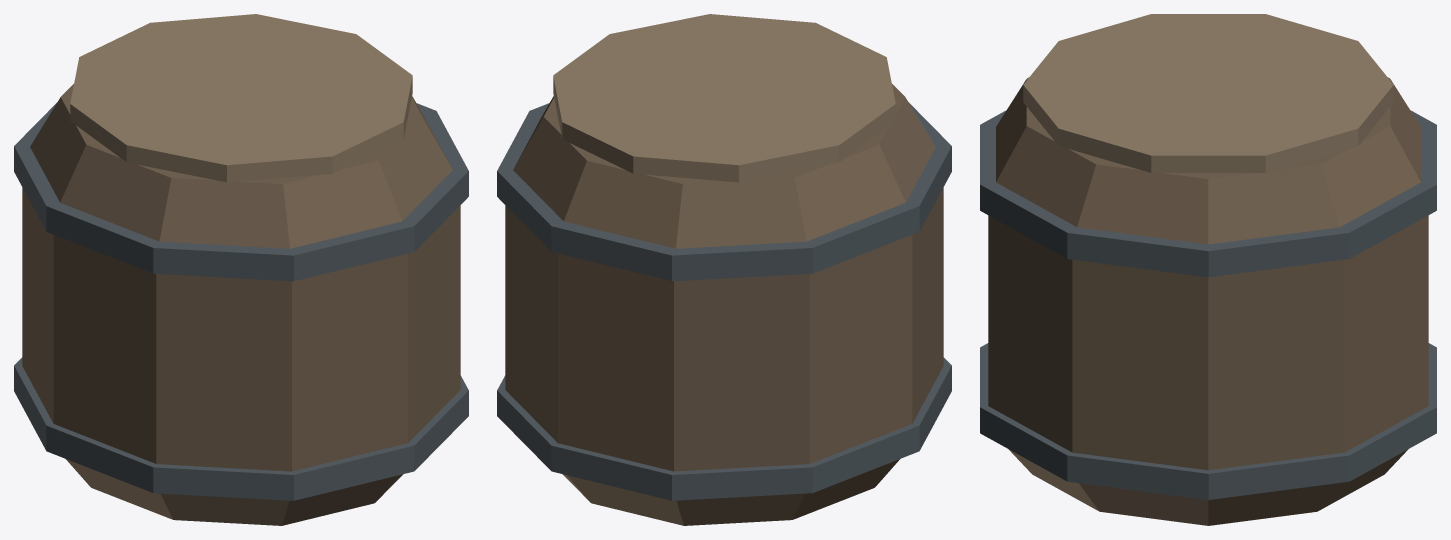
The model's file is curing_barrel.glb.
3 views of the same model, side by side, from view 1: azimuth 30°, elevation 25°; view 2: azimuth 150°, elevation 25°; view 3: azimuth 270°, elevation 25° (orthographic).
Parts seen in each view (by area): view 1: curing_barrel; view 2: curing_barrel; view 3: curing_barrel.
Boxes of the visible parts, x1,y1,x2,y2 form: curing_barrel: (14, 14, 468, 525); curing_barrel: (497, 14, 951, 525); curing_barrel: (980, 14, 1436, 525).
Size of the model in its own units: 0.96 by 0.85 by 0.96.
